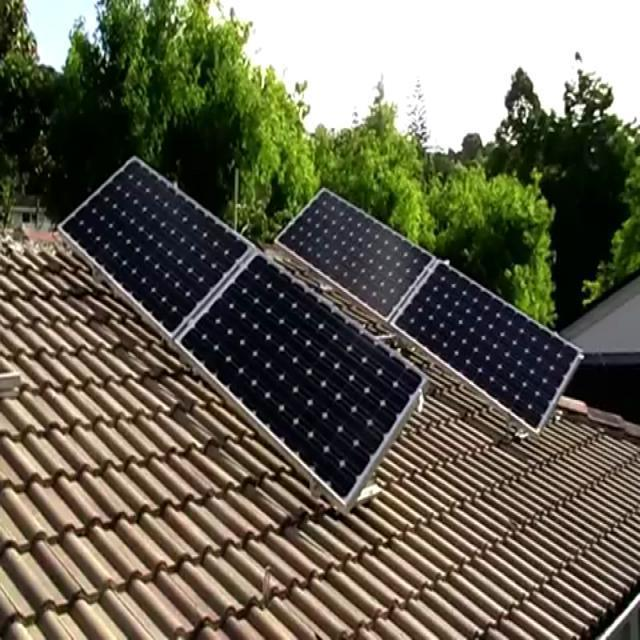Normal Solar Panel: (60, 157, 426, 511), (278, 189, 581, 431)
